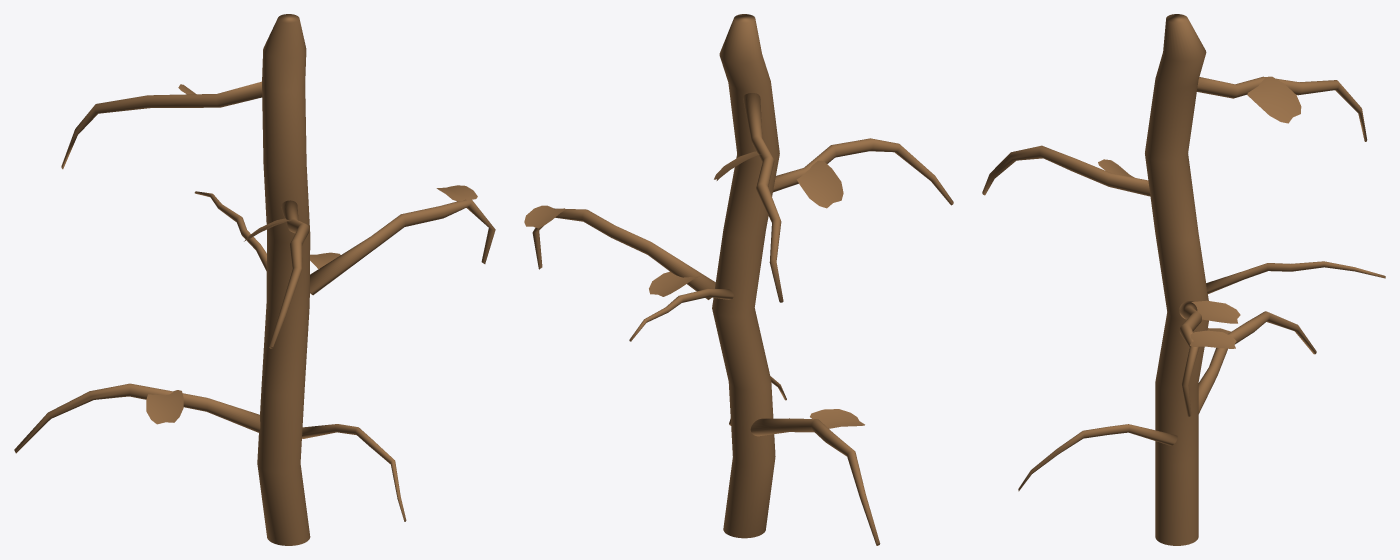
Rendered from DeadSoyBean.fbx.
3 views of the same model, side by side, from view 1: azimuth 30°, elevation 25°; view 2: azimuth 150°, elevation 25°; view 3: azimuth 270°, elevation 25° (orthographic).
Visible parts, largest first — view 1: Cylinder, Cylinder.001, Cylinder.020, Cylinder.014, Cylinder.009, Cylinder.031, Plane.002, Cylinder.026; view 2: Cylinder, Cylinder.001, Cylinder.014, Cylinder.020, Cylinder.009, Plane.011, Cylinder.026, Plane.002, Plane.012, Plane.009; view 3: Cylinder, Cylinder.009, Cylinder.014, Cylinder.020, Plane.007, Cylinder.026, Cylinder.031, Cylinder.001, Plane.012, Plane.009.
Boxes of the visible parts, bbox=[...] form: Cylinder: bbox=[257, 14, 310, 545]; Cylinder.001: bbox=[310, 199, 495, 295]; Cylinder.020: bbox=[14, 383, 260, 453]; Cylinder.014: bbox=[61, 81, 262, 169]; Cylinder.009: bbox=[269, 200, 309, 348]; Cylinder.031: bbox=[302, 424, 406, 521]; Plane.002: bbox=[146, 390, 183, 424]; Cylinder.026: bbox=[194, 191, 266, 270]; Cylinder: bbox=[712, 14, 779, 538]; Cylinder.001: bbox=[532, 208, 715, 299]; Cylinder.014: bbox=[743, 93, 783, 302]; Cylinder.020: bbox=[750, 418, 880, 545]; Cylinder.009: bbox=[773, 138, 953, 205]; Plane.011: bbox=[796, 160, 843, 208]; Cylinder.026: bbox=[629, 288, 733, 341]; Plane.002: bbox=[810, 409, 864, 428]; Plane.012: bbox=[649, 271, 699, 296]; Plane.009: bbox=[524, 205, 565, 228]; Cylinder: bbox=[1145, 14, 1208, 545]; Cylinder.009: bbox=[982, 145, 1150, 196]; Cylinder.014: bbox=[1197, 76, 1367, 141]; Cylinder.020: bbox=[1198, 311, 1316, 413]; Plane.007: bbox=[1247, 76, 1301, 123]; Cylinder.026: bbox=[1206, 261, 1385, 293]; Cylinder.031: bbox=[1018, 424, 1177, 491]; Cylinder.001: bbox=[1179, 301, 1201, 416]; Plane.012: bbox=[1191, 300, 1240, 323]; Plane.009: bbox=[1190, 330, 1236, 348].
Bounding box in the file's own units: 720 × 856 × 604.
